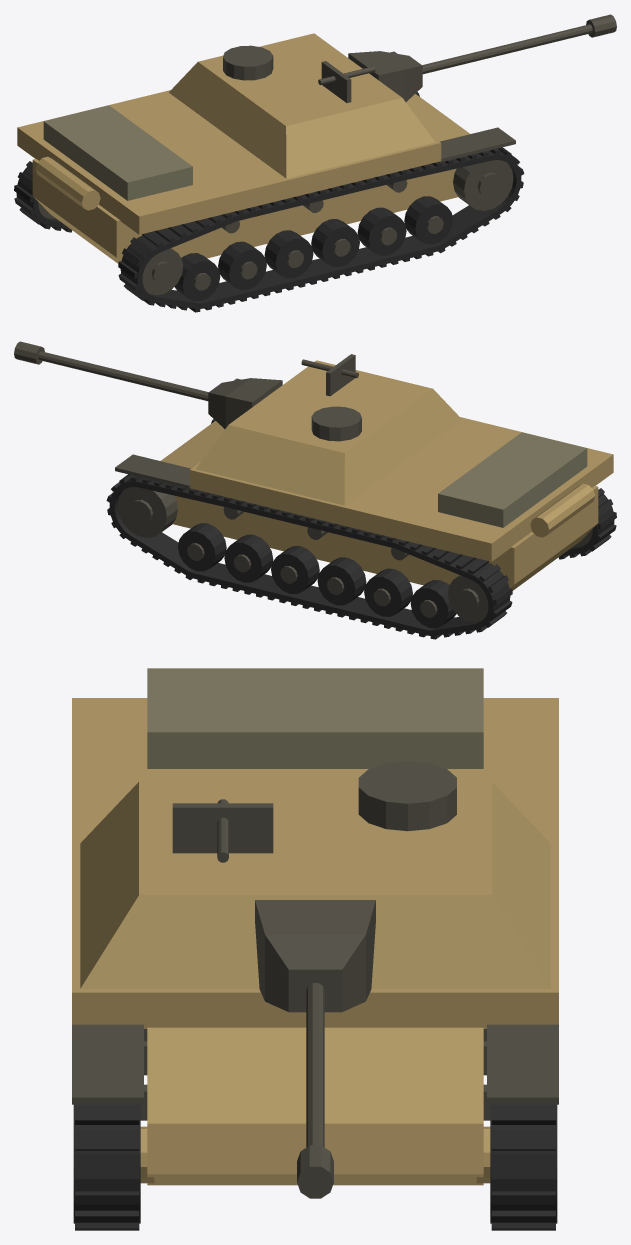
The model's file is de_stug_iii_g.obj.
3 views of the same model, one above another, from view 1: azimuth 30°, elevation 25°; view 2: azimuth 150°, elevation 25°; view 3: azimuth 270°, elevation 25° (orthographic). The views are drawn at different scales.
Bounding box in the file's own units: 7.61 × 2.26 × 2.9.
